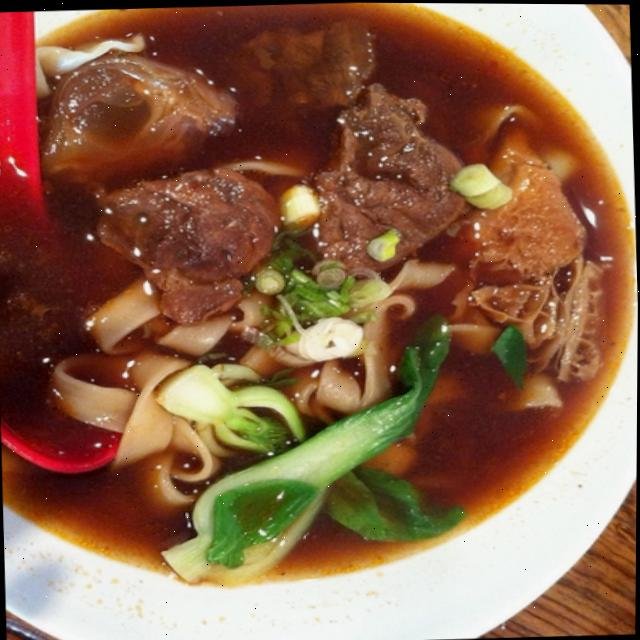面条主食: (0, 0, 595, 590)
